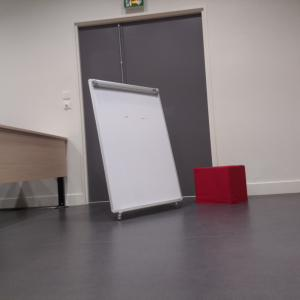big: (89, 77, 181, 216)
medium: (192, 164, 248, 205)
